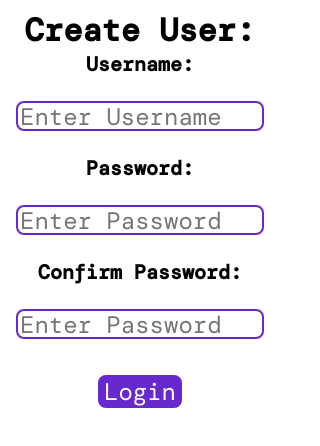
CreateUserPage › should show error for different passwords
In the field with placeholder "Enter Username": (140, 116) [16,101,264,131], type "testuser"
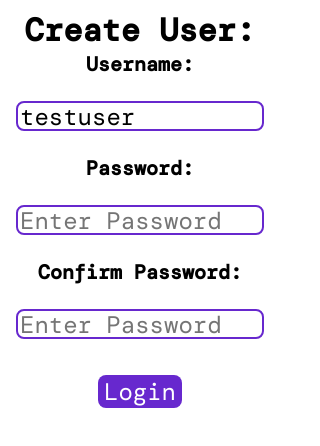
In the 1st password field with placeholder "Enter Password": (140, 220) [16,205,264,235], type "password1$2@!3123"
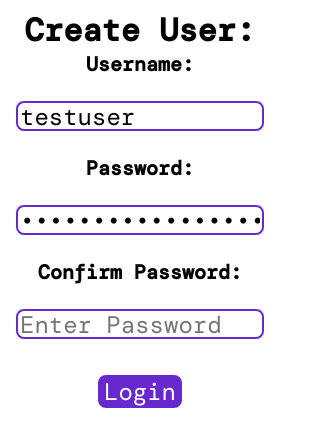
In the password field with placeholder "Enter Password": (140, 324) [16,309,264,339], type "Password332322@!3"
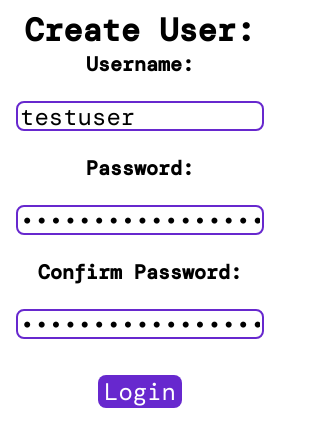
Click the button "Login": click(140, 392) [98,375,182,408]
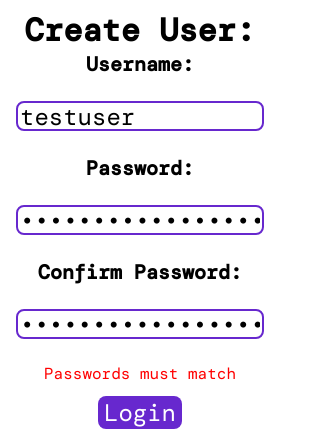
Now the text "Passwords must match" is shown, box [44,363,236,384]
